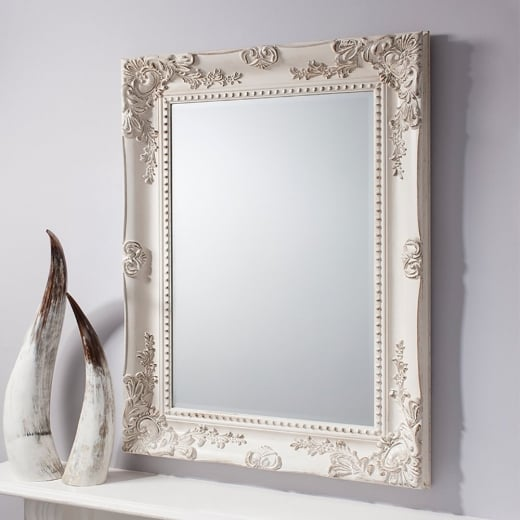Nonrec_Glass: (110, 52, 452, 497)
